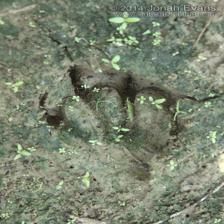beaver: (36, 64, 189, 190)
